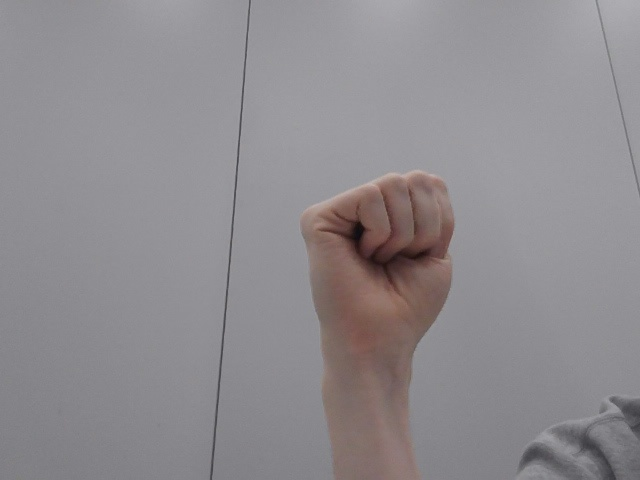down: (278, 155, 477, 380)
